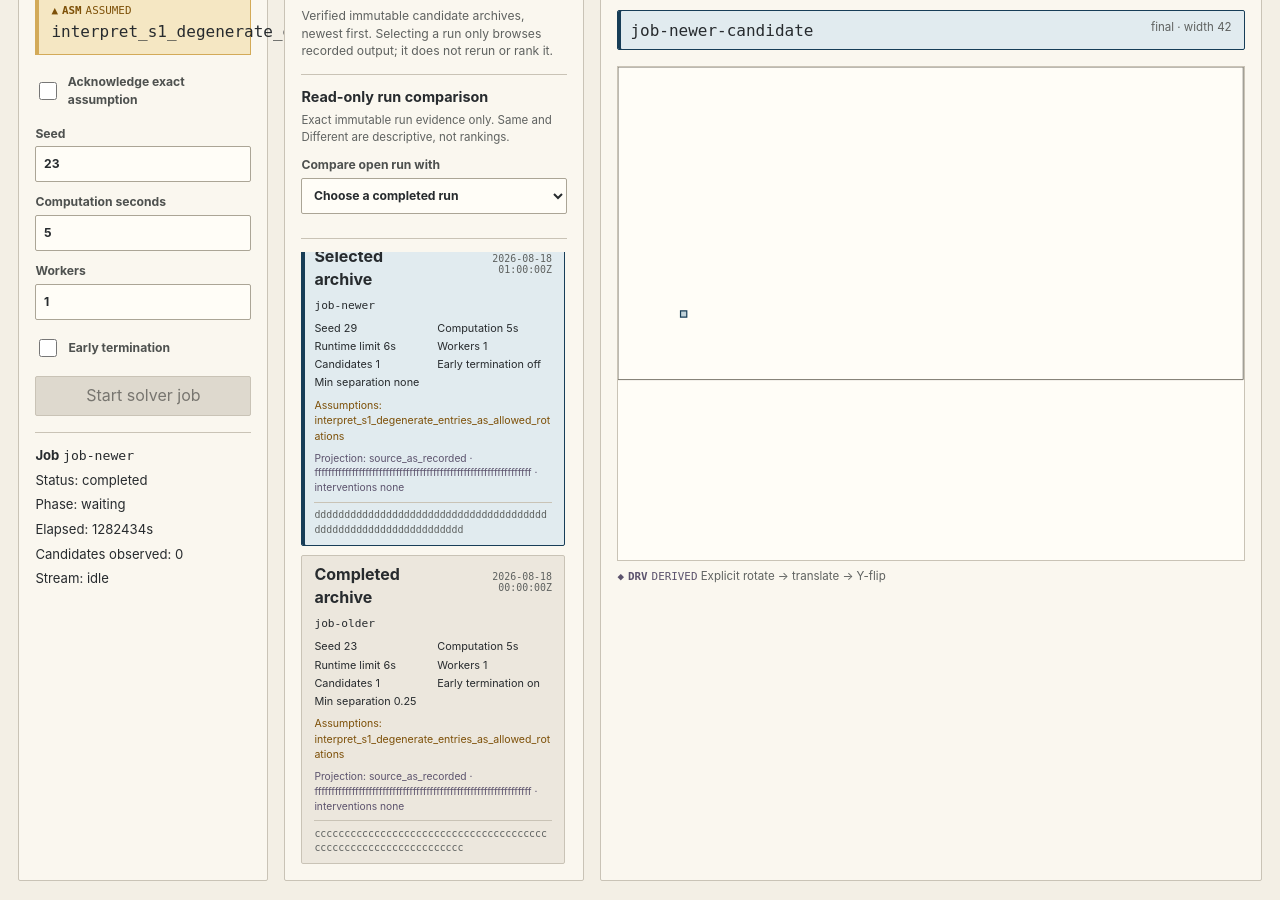
Test: research workbench › defaults to the newest completed archive and browses an older run
The width and height of the screenshot is (1280, 900).
(page scrolled)
Expected: the text "Seed 29" is shown, [314,321,357,335]
Expected: the text "job-newer-candidate" is shown, [630,19,813,42]
Click the button with aria-label "Open completed run job-older": [357, 574] box [301,555,565,864]
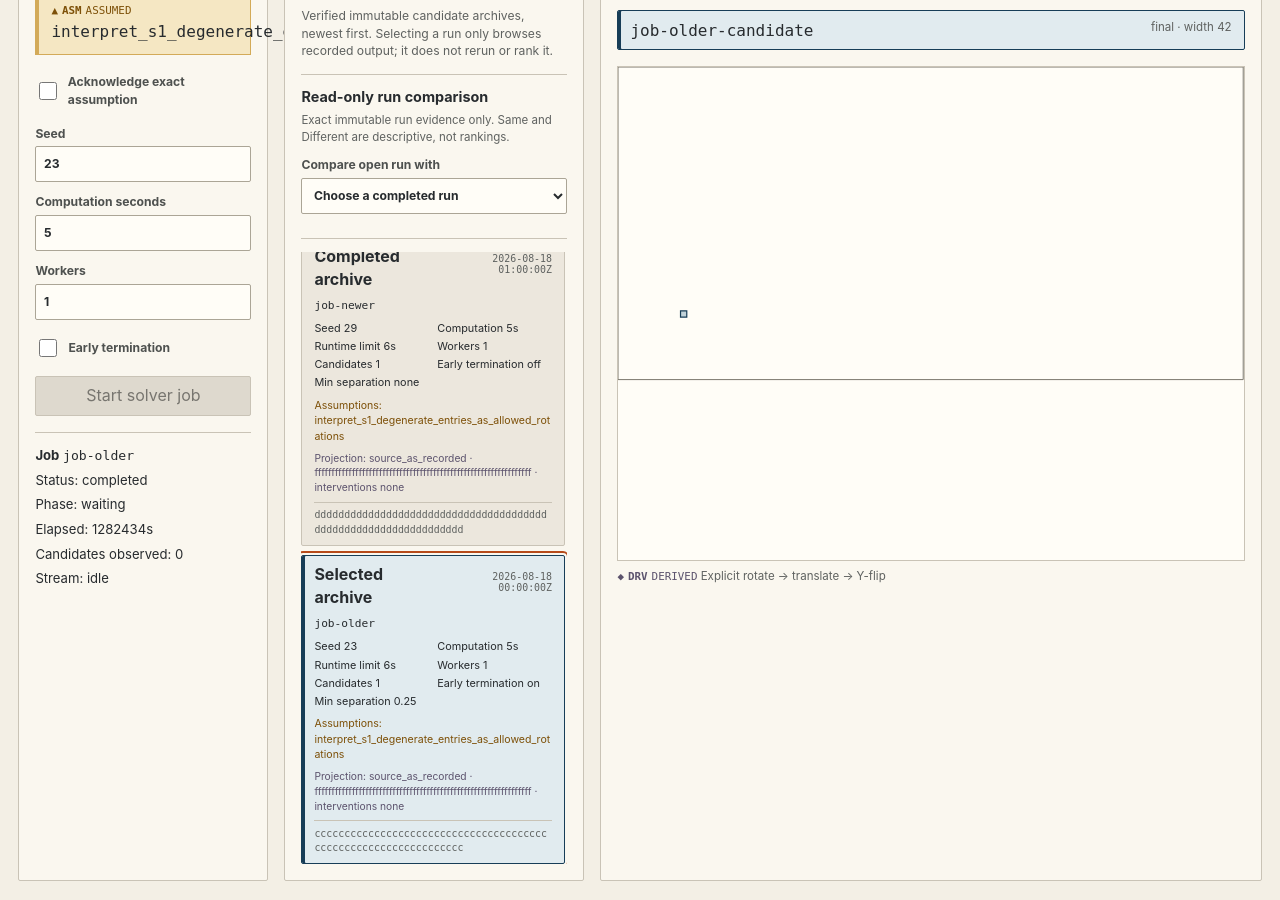
Expected: the picture named "candidate job-older-candidate placement geometry" is shown, [617,66,1245,561]
Now the text "job-older-candidate" is shown, box [630,19,813,42]
